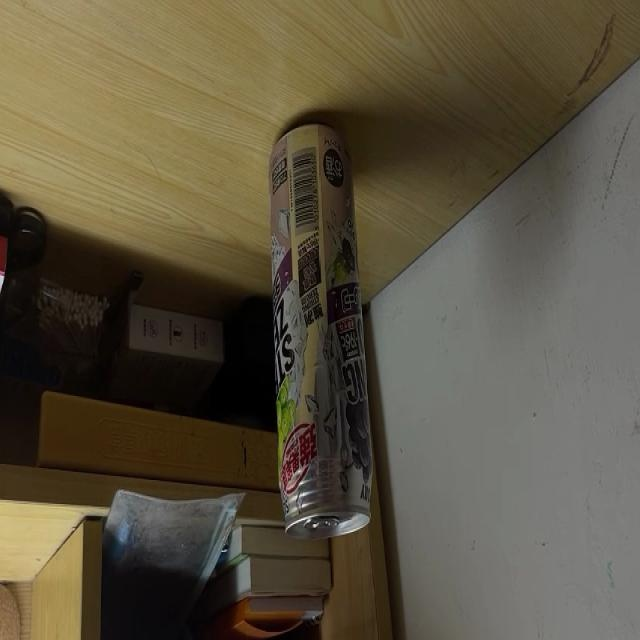Liquor: (267, 120, 374, 541)
